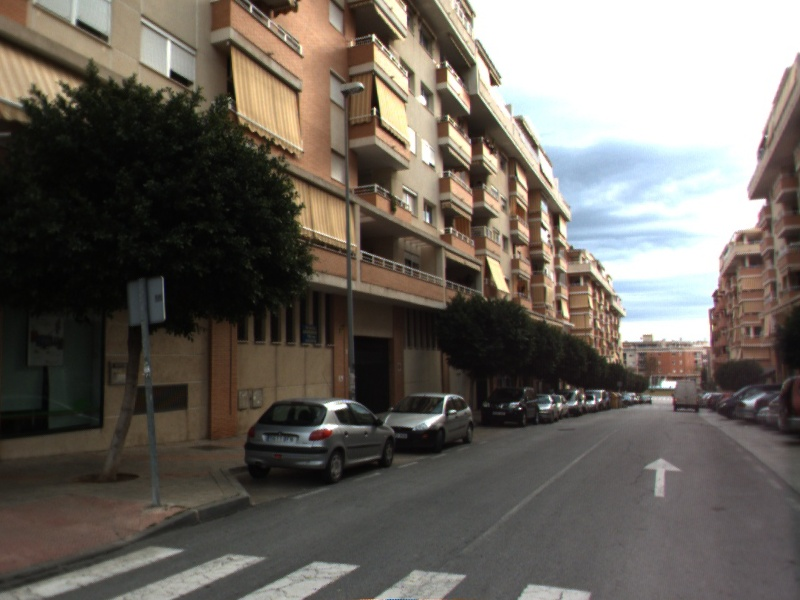STRAIGHT: (641, 456, 683, 499)
